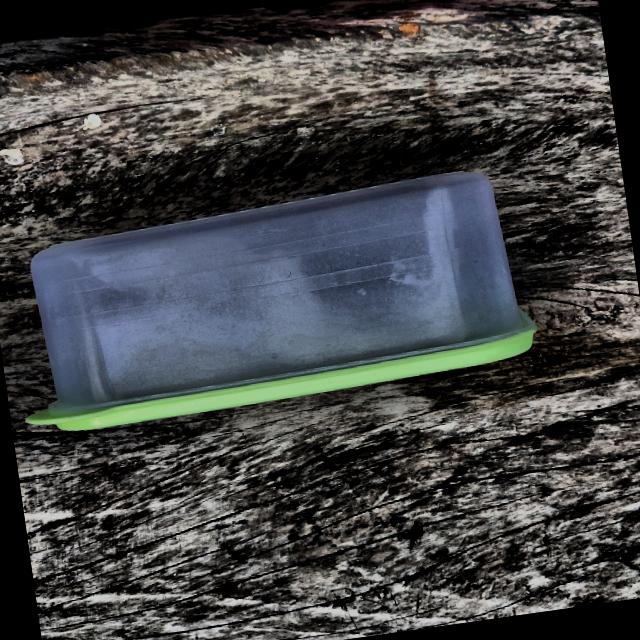plastic container: (0, 144, 555, 455)
